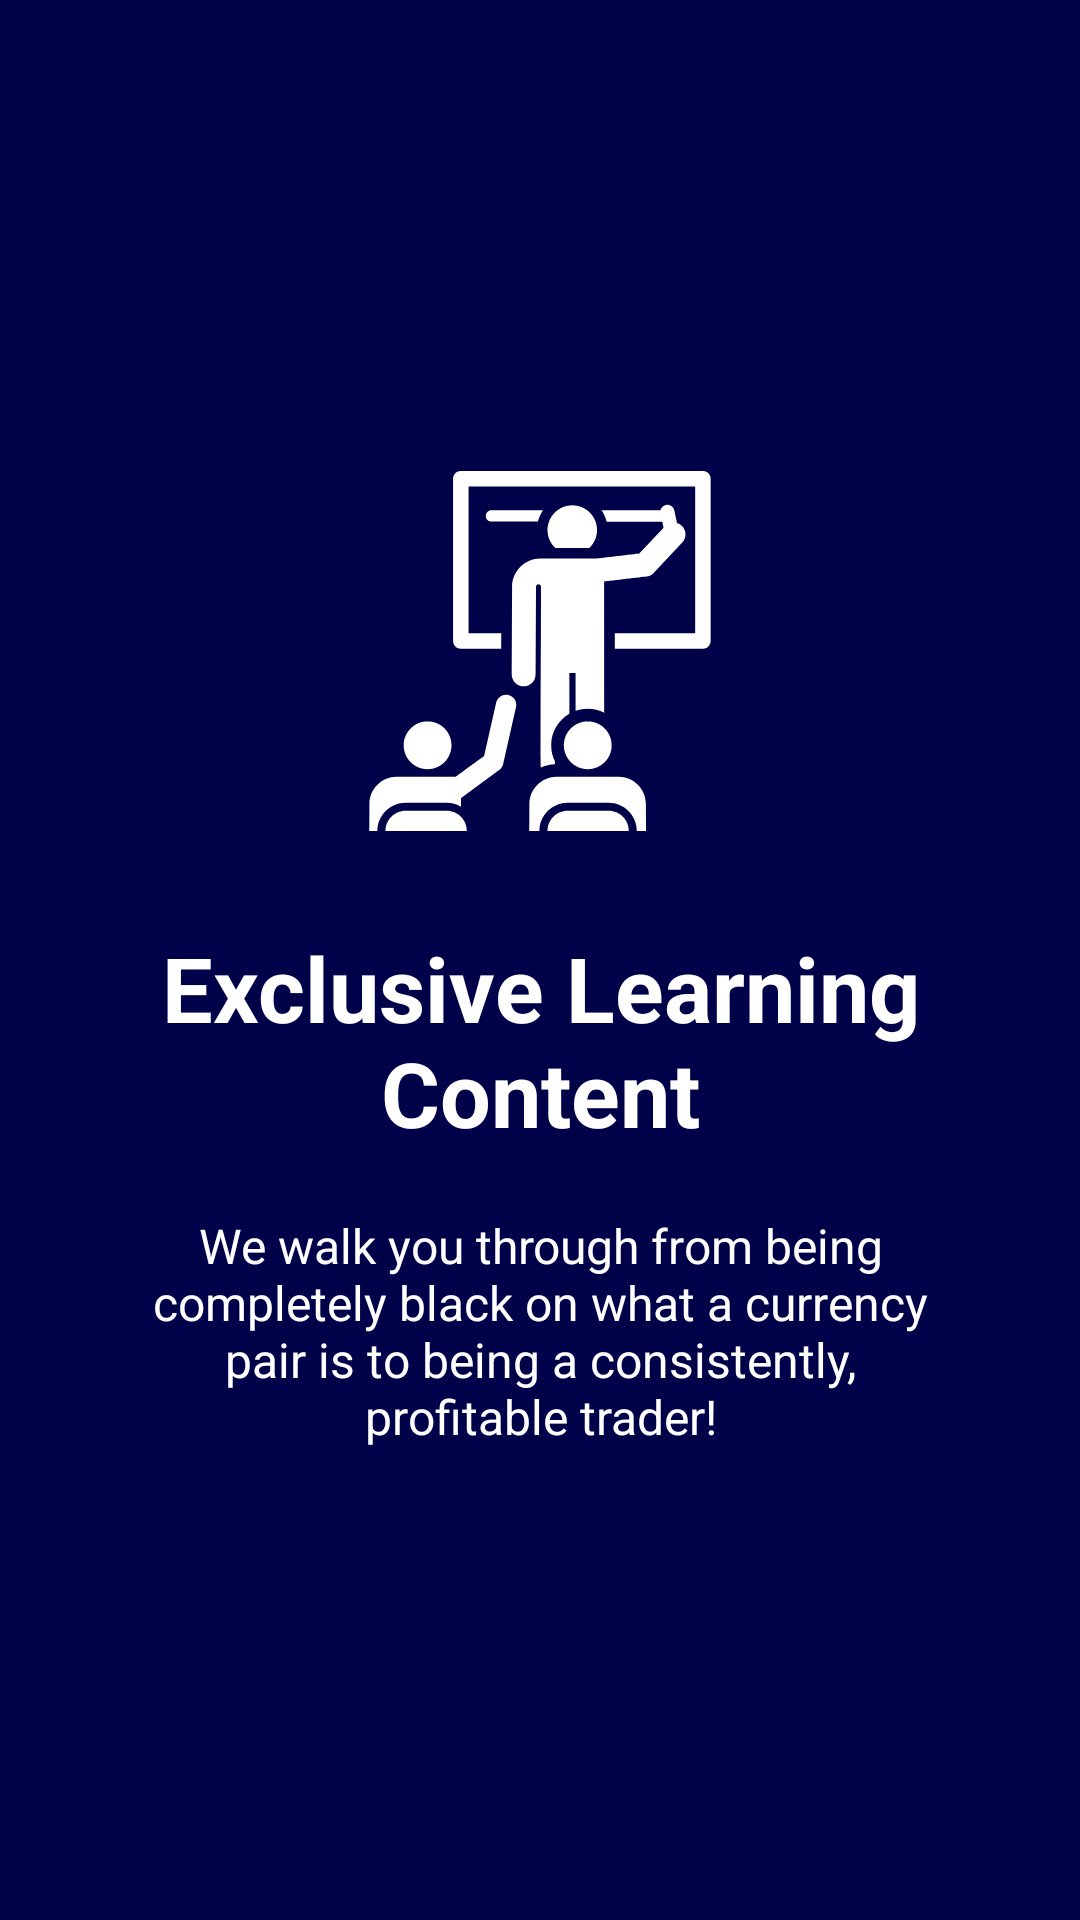

Icons on this 1080w x 1920h Android screen, each with the point to tap as [x,y]:
classroom: [540,651]
